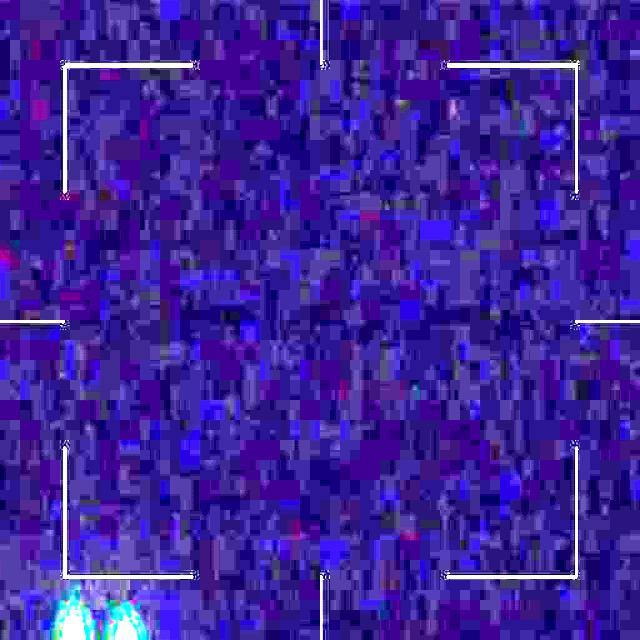bird: (61, 612, 141, 640)
